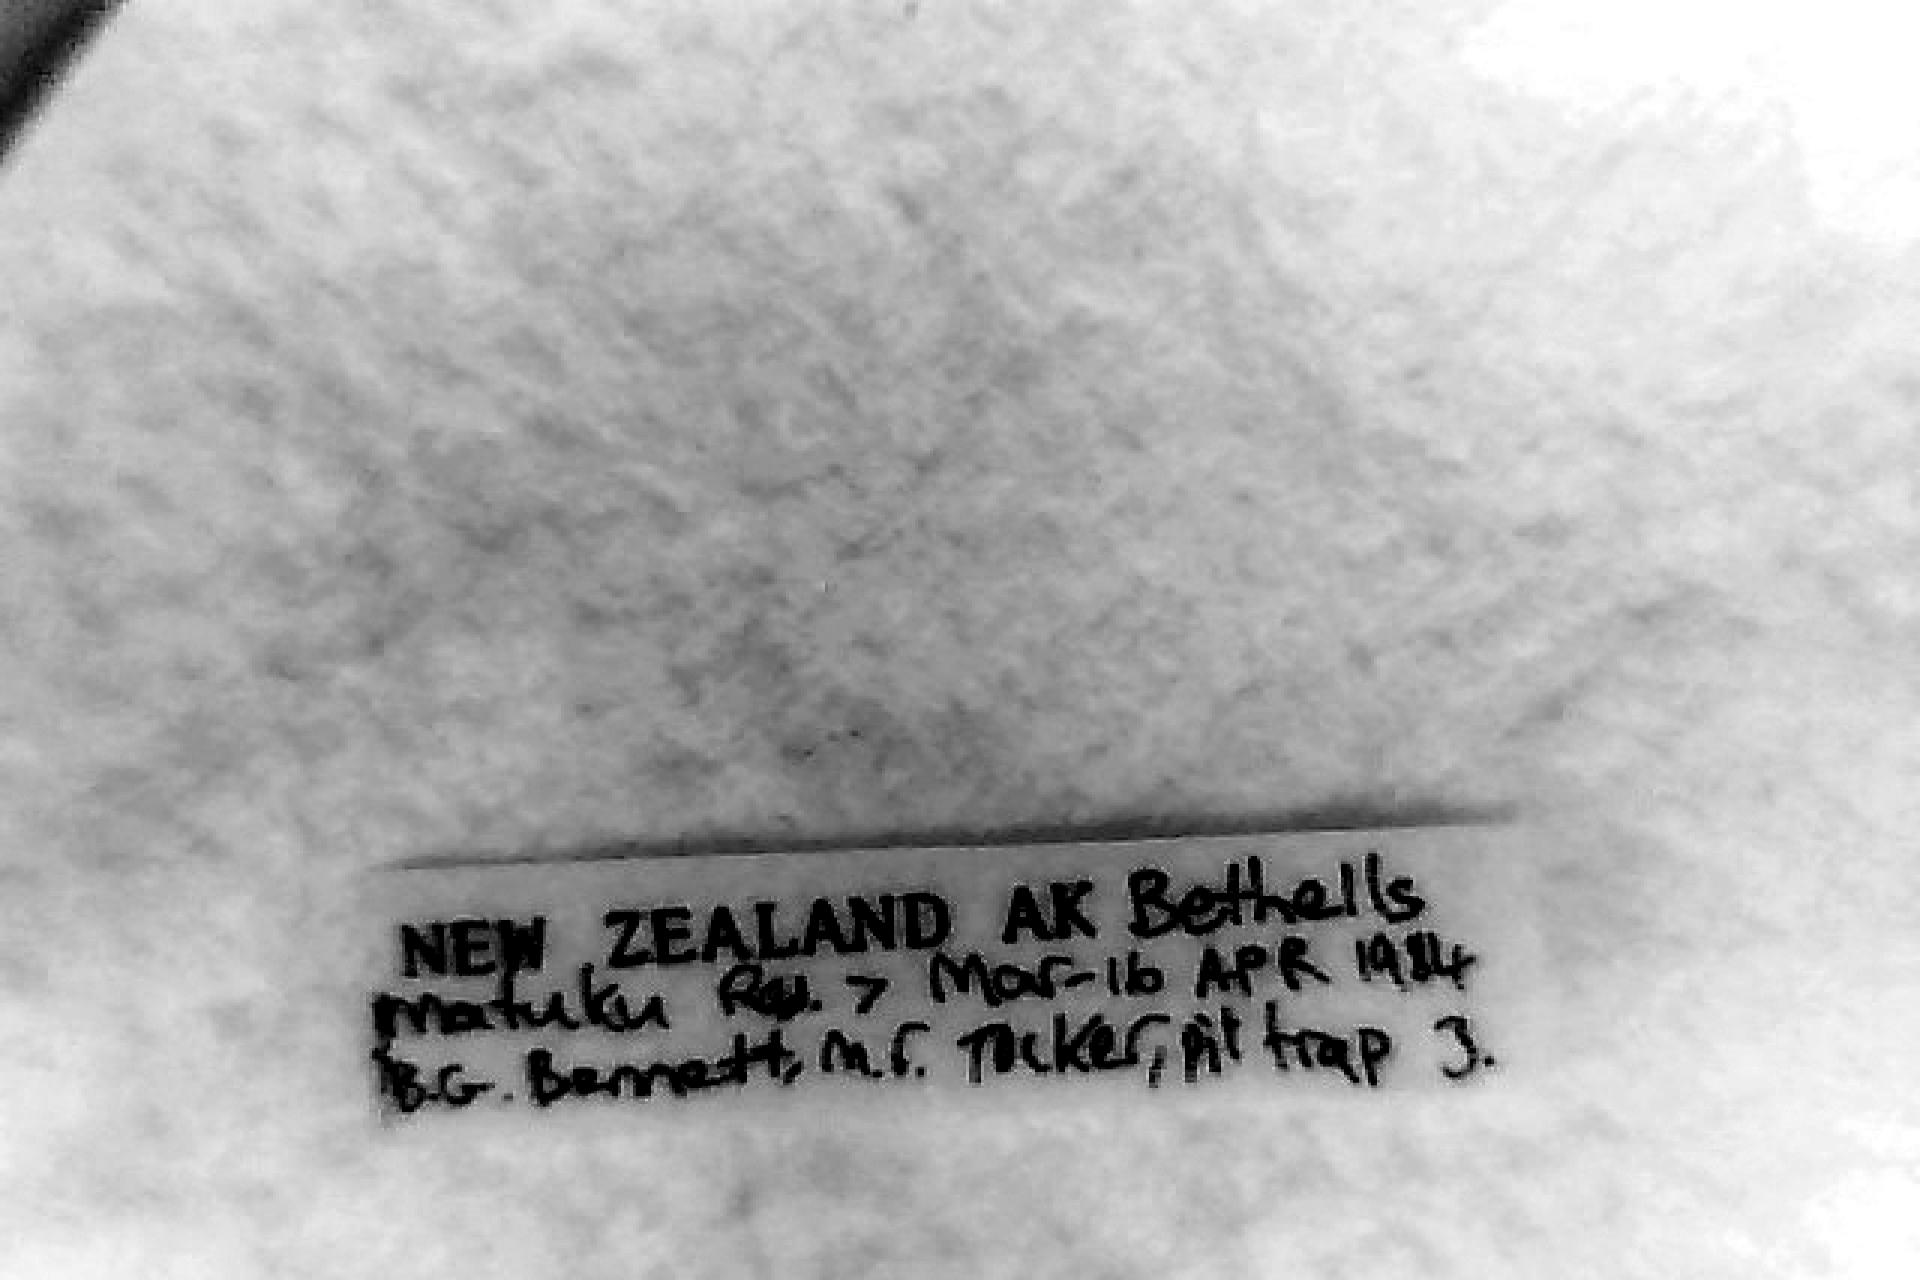mixed_label: (368, 827, 1538, 1122)
